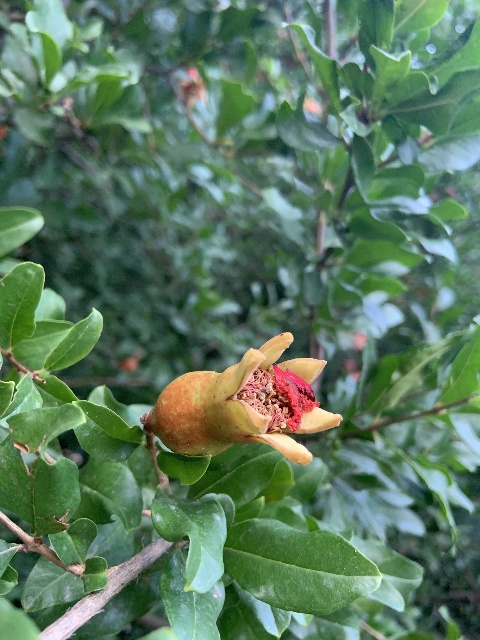early-fruit: (145, 330, 343, 471)
